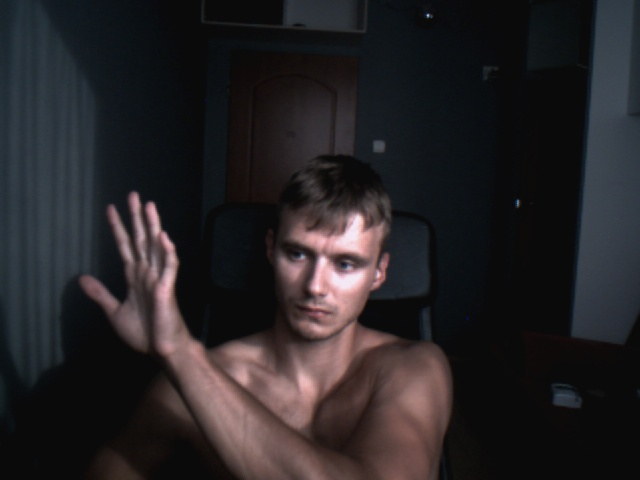open: (76, 190, 178, 358)
